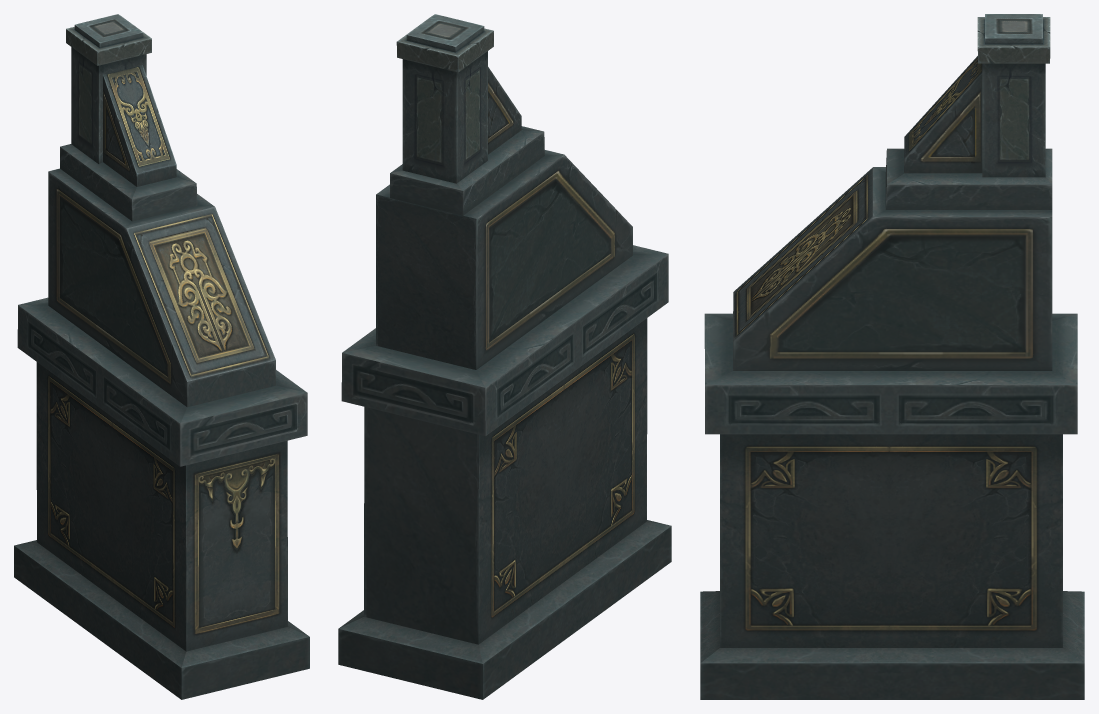
Rendered from tai_zi_004.FBX.
3 views of the same model, side by side, from view 1: azimuth 30°, elevation 25°; view 2: azimuth 150°, elevation 25°; view 3: azimuth 270°, elevation 25° (orthographic). The views are drawn at different scales.
Visible parts, largest first — view 1: tai_zi_004_a01; view 2: tai_zi_004_a01; view 3: tai_zi_004_a01.
Part boxes in pixels (x1,y1,x2,y2): tai_zi_004_a01: [14, 14, 309, 699]; tai_zi_004_a01: [338, 14, 671, 699]; tai_zi_004_a01: [700, 14, 1084, 699].
Size of the model in its own units: 614 by 2542 by 1389.
1 material, 1 textured.
